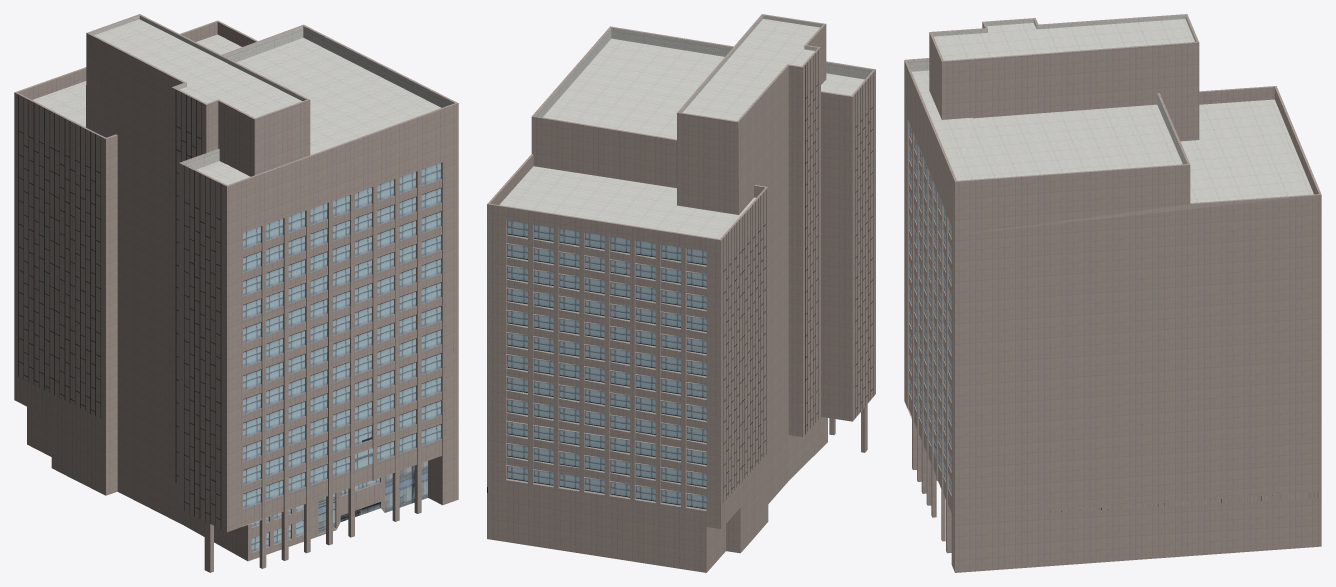
3 views of the same model, side by side, from view 1: azimuth 30°, elevation 25°; view 2: azimuth 150°, elevation 25°; view 3: azimuth 270°, elevation 25° (orthographic). The views are drawn at different scales.
Visible parts, largest first — view 1: 6号楼_primitive1, 6号楼_primitive0, 6号楼_primitive4, 6号楼_primitive5, 6号楼_primitive2; view 2: 6号楼_primitive1, 6号楼_primitive4, 6号楼_primitive0, 6号楼_primitive5; view 3: 6号楼_primitive1, 6号楼_primitive4, 6号楼_primitive0.
Part boxes in pixels (x1,y1,x2,y2): 6号楼_primitive1: [14, 14, 458, 572]; 6号楼_primitive0: [243, 163, 441, 551]; 6号楼_primitive4: [33, 15, 454, 184]; 6号楼_primitive5: [18, 89, 221, 528]; 6号楼_primitive2: [318, 461, 427, 533]; 6号楼_primitive1: [487, 14, 875, 572]; 6号楼_primitive4: [499, 15, 872, 238]; 6号楼_primitive0: [507, 220, 706, 509]; 6号楼_primitive5: [723, 50, 873, 502]; 6号楼_primitive1: [904, 14, 1321, 572]; 6号楼_primitive4: [907, 15, 1313, 202]; 6号楼_primitive0: [909, 124, 951, 494].
Size of the model in its own units: 42.03 by 63.22 by 54.79.
6 materials, 5 textured.
